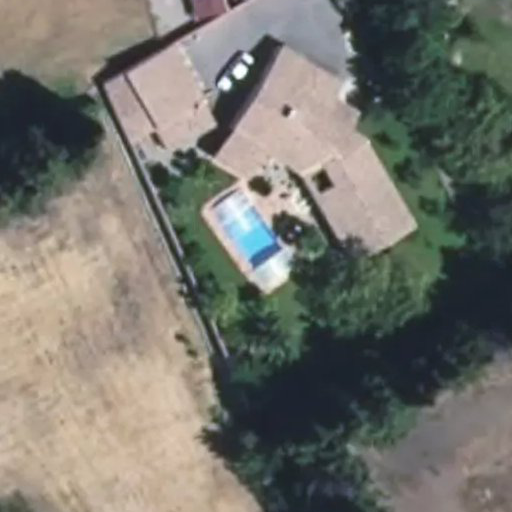pool: (214, 215, 290, 260)
